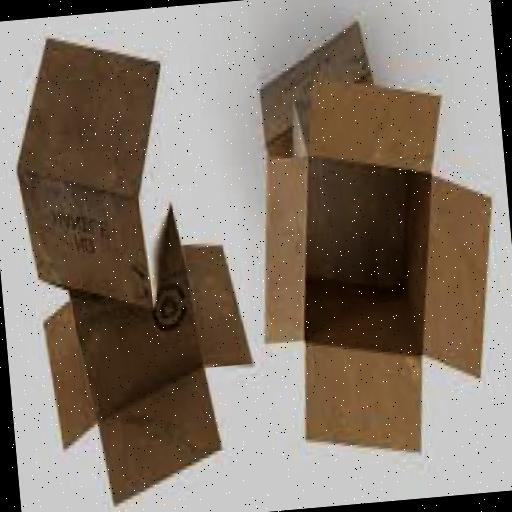cardboard: (242, 64, 512, 468), (34, 207, 261, 512), (6, 32, 180, 324)
